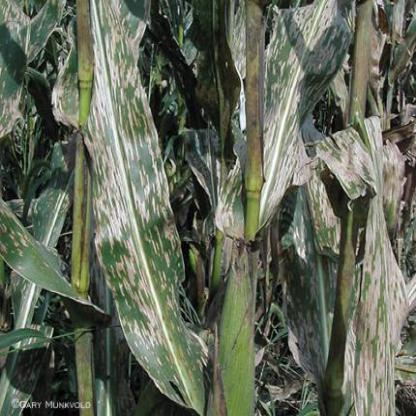corn gray leaf spot: (68, 1, 230, 410), (257, 1, 356, 321), (334, 125, 411, 415)
